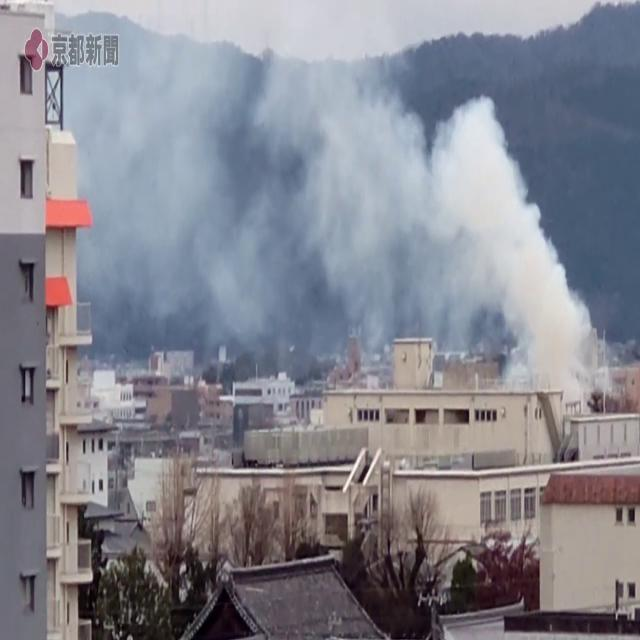Smoke: (67, 8, 602, 373)
